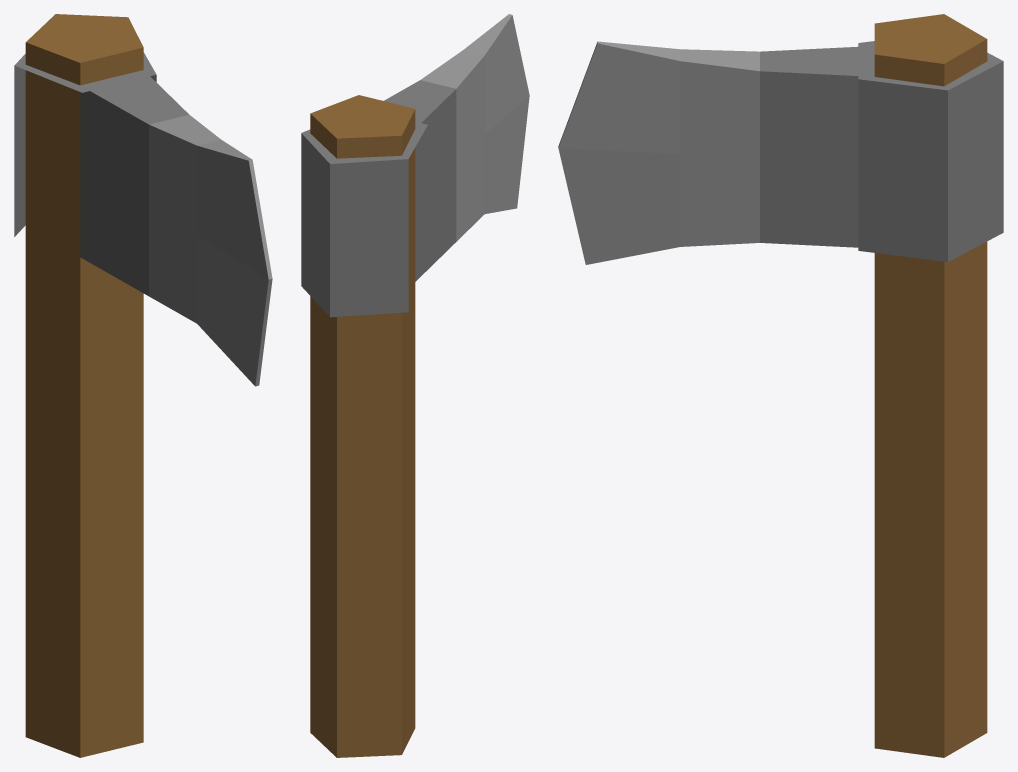
File: Axe.fbx
3 renders of one model, left to right at view 1: azimuth 30°, elevation 25°; view 2: azimuth 150°, elevation 25°; view 3: azimuth 270°, elevation 25°, orthographic. The views are drawn at different scales.
Parts seen in each view (by area): view 1: Cylinder; view 2: Cylinder; view 3: Cylinder.
Boxes of the visible parts, box(x1,y1,x2,y2) form: Cylinder: box(14, 14, 272, 757); Cylinder: box(301, 14, 529, 757); Cylinder: box(558, 14, 1003, 757).
Size of the model in its own units: 15.14 by 83.56 by 48.58.
